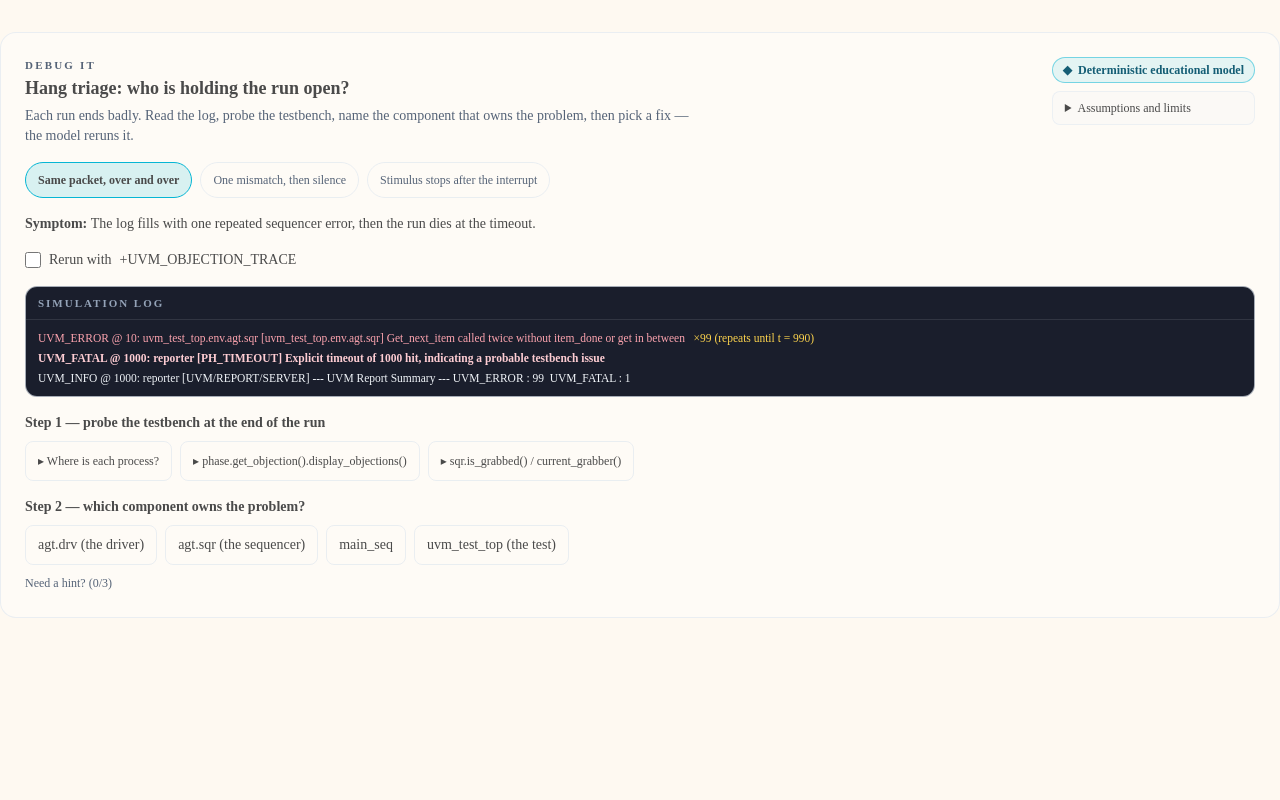
Test: DebuggingSimulator (hang triage) › the code and fixes stay hidden until the owner is found; a wrong suspect gets diagnostic feedback
The image size is (1280, 800).
Check: the text "The owner's code" is not shown
Click the button "agt.sqr (the sequencer)": click(242, 545) [165,525,318,565]
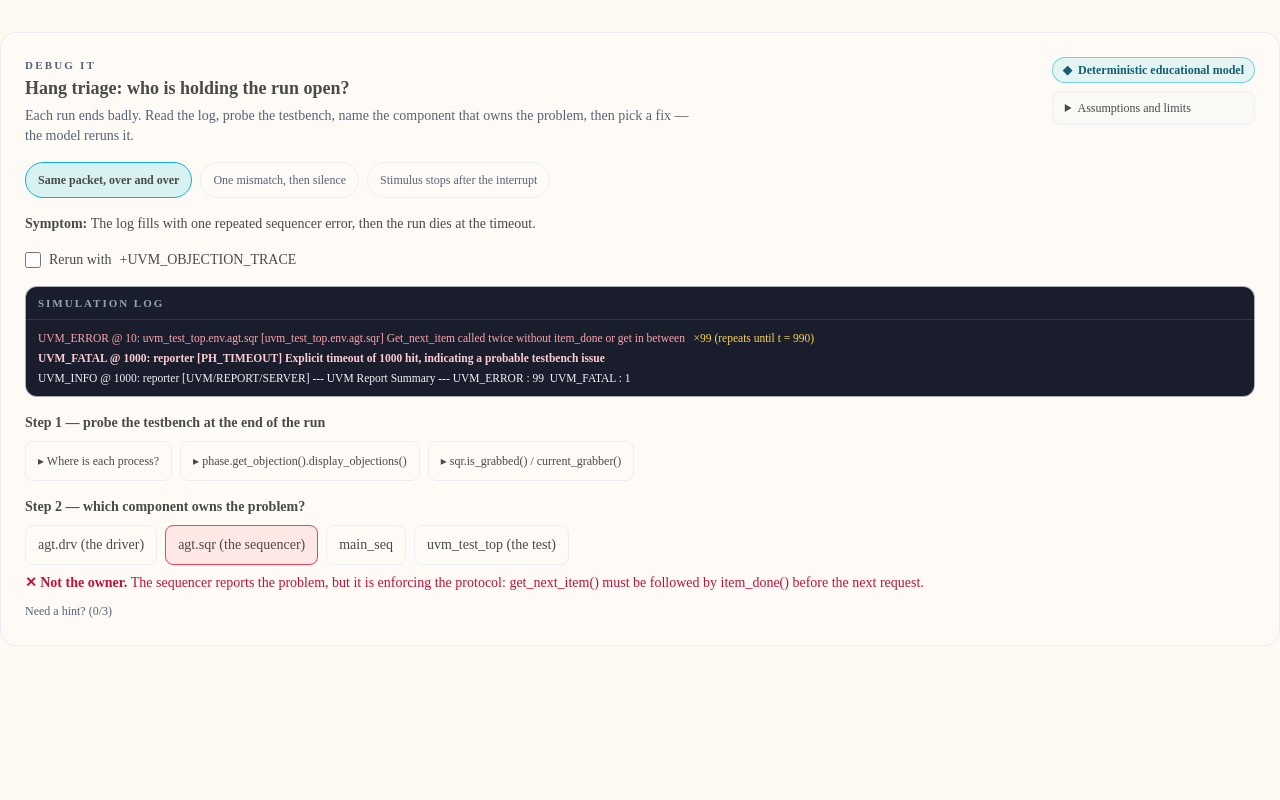
Check: the text "The owner's code" is not shown
Check: the text "✕ Not the owner." is shown, box [25,575,131,590]
Check: the text "enforcing the protocol" is shown, box [131,575,924,590]
Click the button "agt.drv (the driver)": click(91, 545) [25,525,157,565]
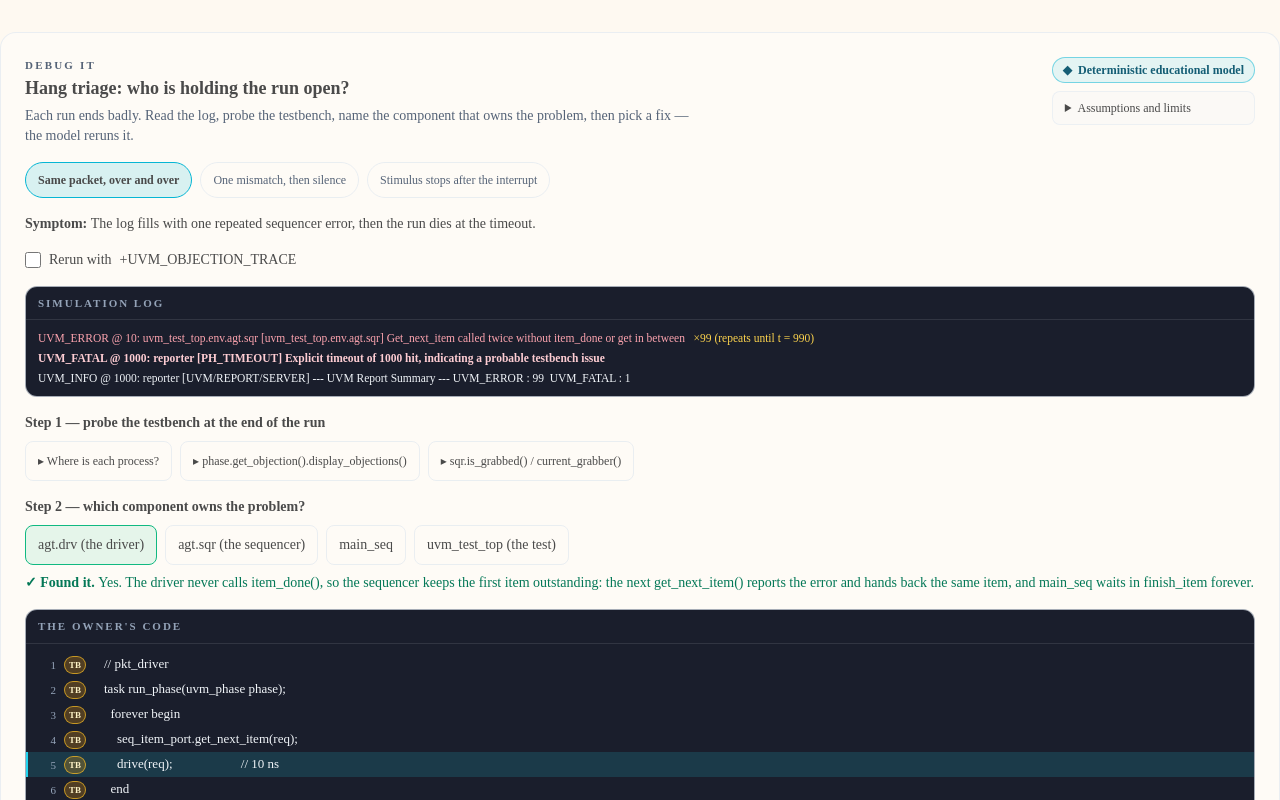
Check: the text "✓ Found it." is shown, box [25,575,98,590]
Check: the text "The owner's code" is shown, box [26,610,1254,644]
